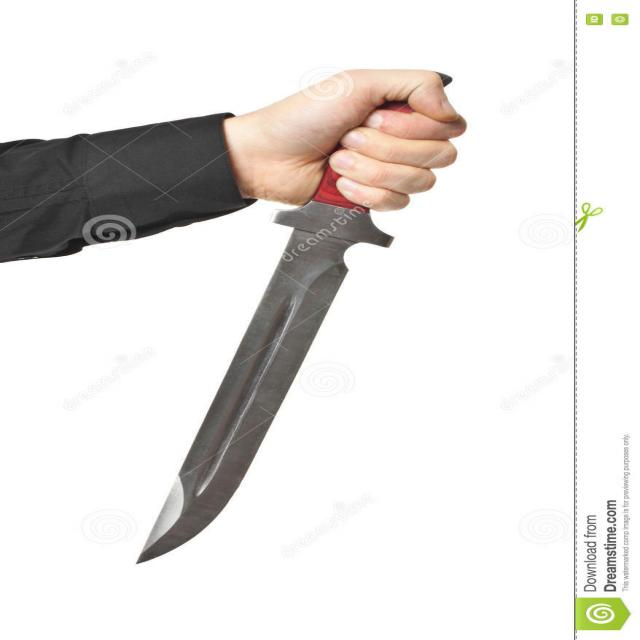knife: (132, 68, 454, 564)
